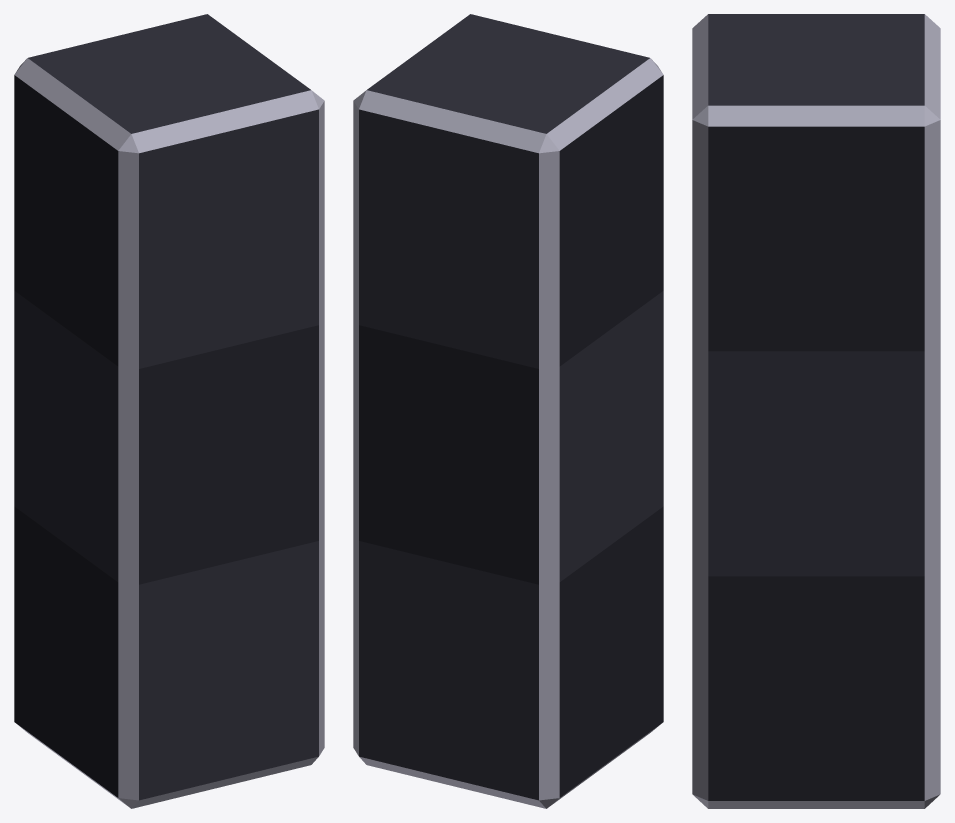
The model's file is PMP-M-Ground-Main-0.32x0.32x1-V1.fbx.
3 renders of one model, left to right at view 1: azimuth 30°, elevation 25°; view 2: azimuth 150°, elevation 25°; view 3: azimuth 270°, elevation 25°, orthographic. The views are drawn at different scales.
Parts seen in each view (by area): view 1: MONO-Terrain-A-0.32x0.32x1; view 2: MONO-Terrain-A-0.32x0.32x1; view 3: MONO-Terrain-A-0.32x0.32x1.
Part boxes in pixels (x1,y1,x2,y2): MONO-Terrain-A-0.32x0.32x1: [14, 14, 324, 808]; MONO-Terrain-A-0.32x0.32x1: [353, 14, 663, 808]; MONO-Terrain-A-0.32x0.32x1: [692, 14, 940, 808].
Size of the model in its own units: 32 by 100 by 32.
